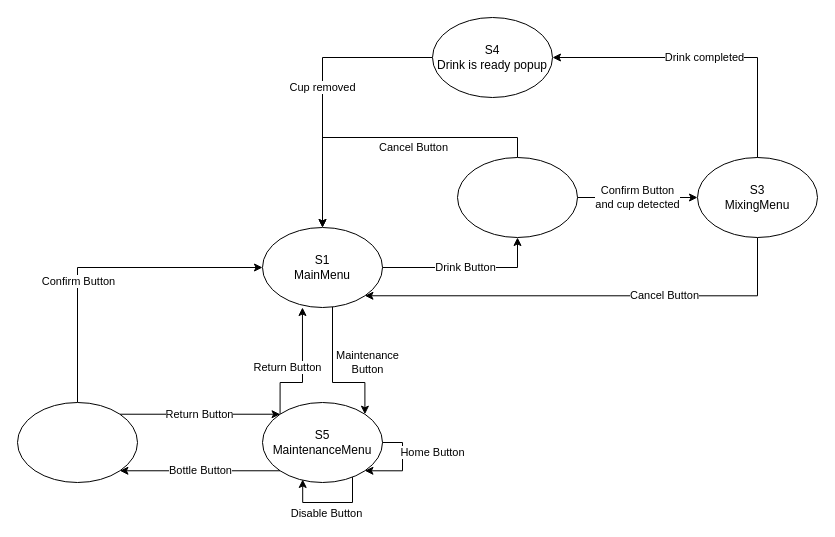
The diagram is 835 pixels wide and 537 high, and some of its shapes have lost their labels. The shapes that lost their labels are listed below. From the top down, each one's box as (x1, y1, x2, y2) in pixels, then its label:
(456, 156, 578, 238): S2 DrinkOptionMenu
(16, 402, 138, 482): S6 Bottle menu
